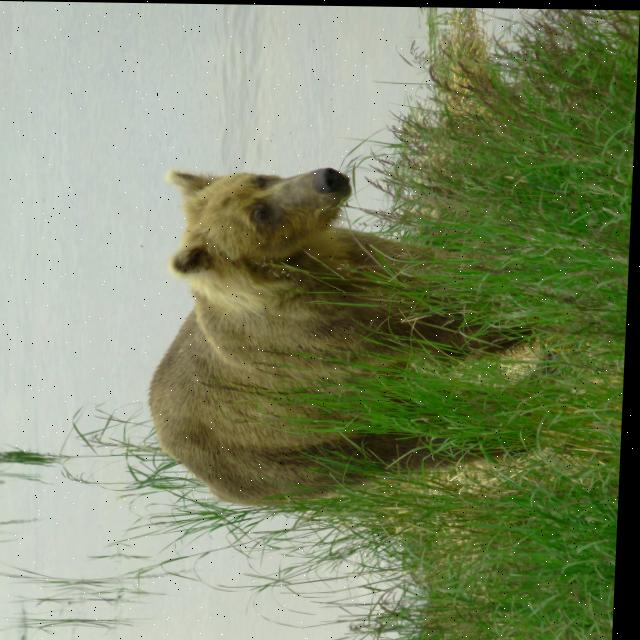bear face: (151, 163, 556, 506)
